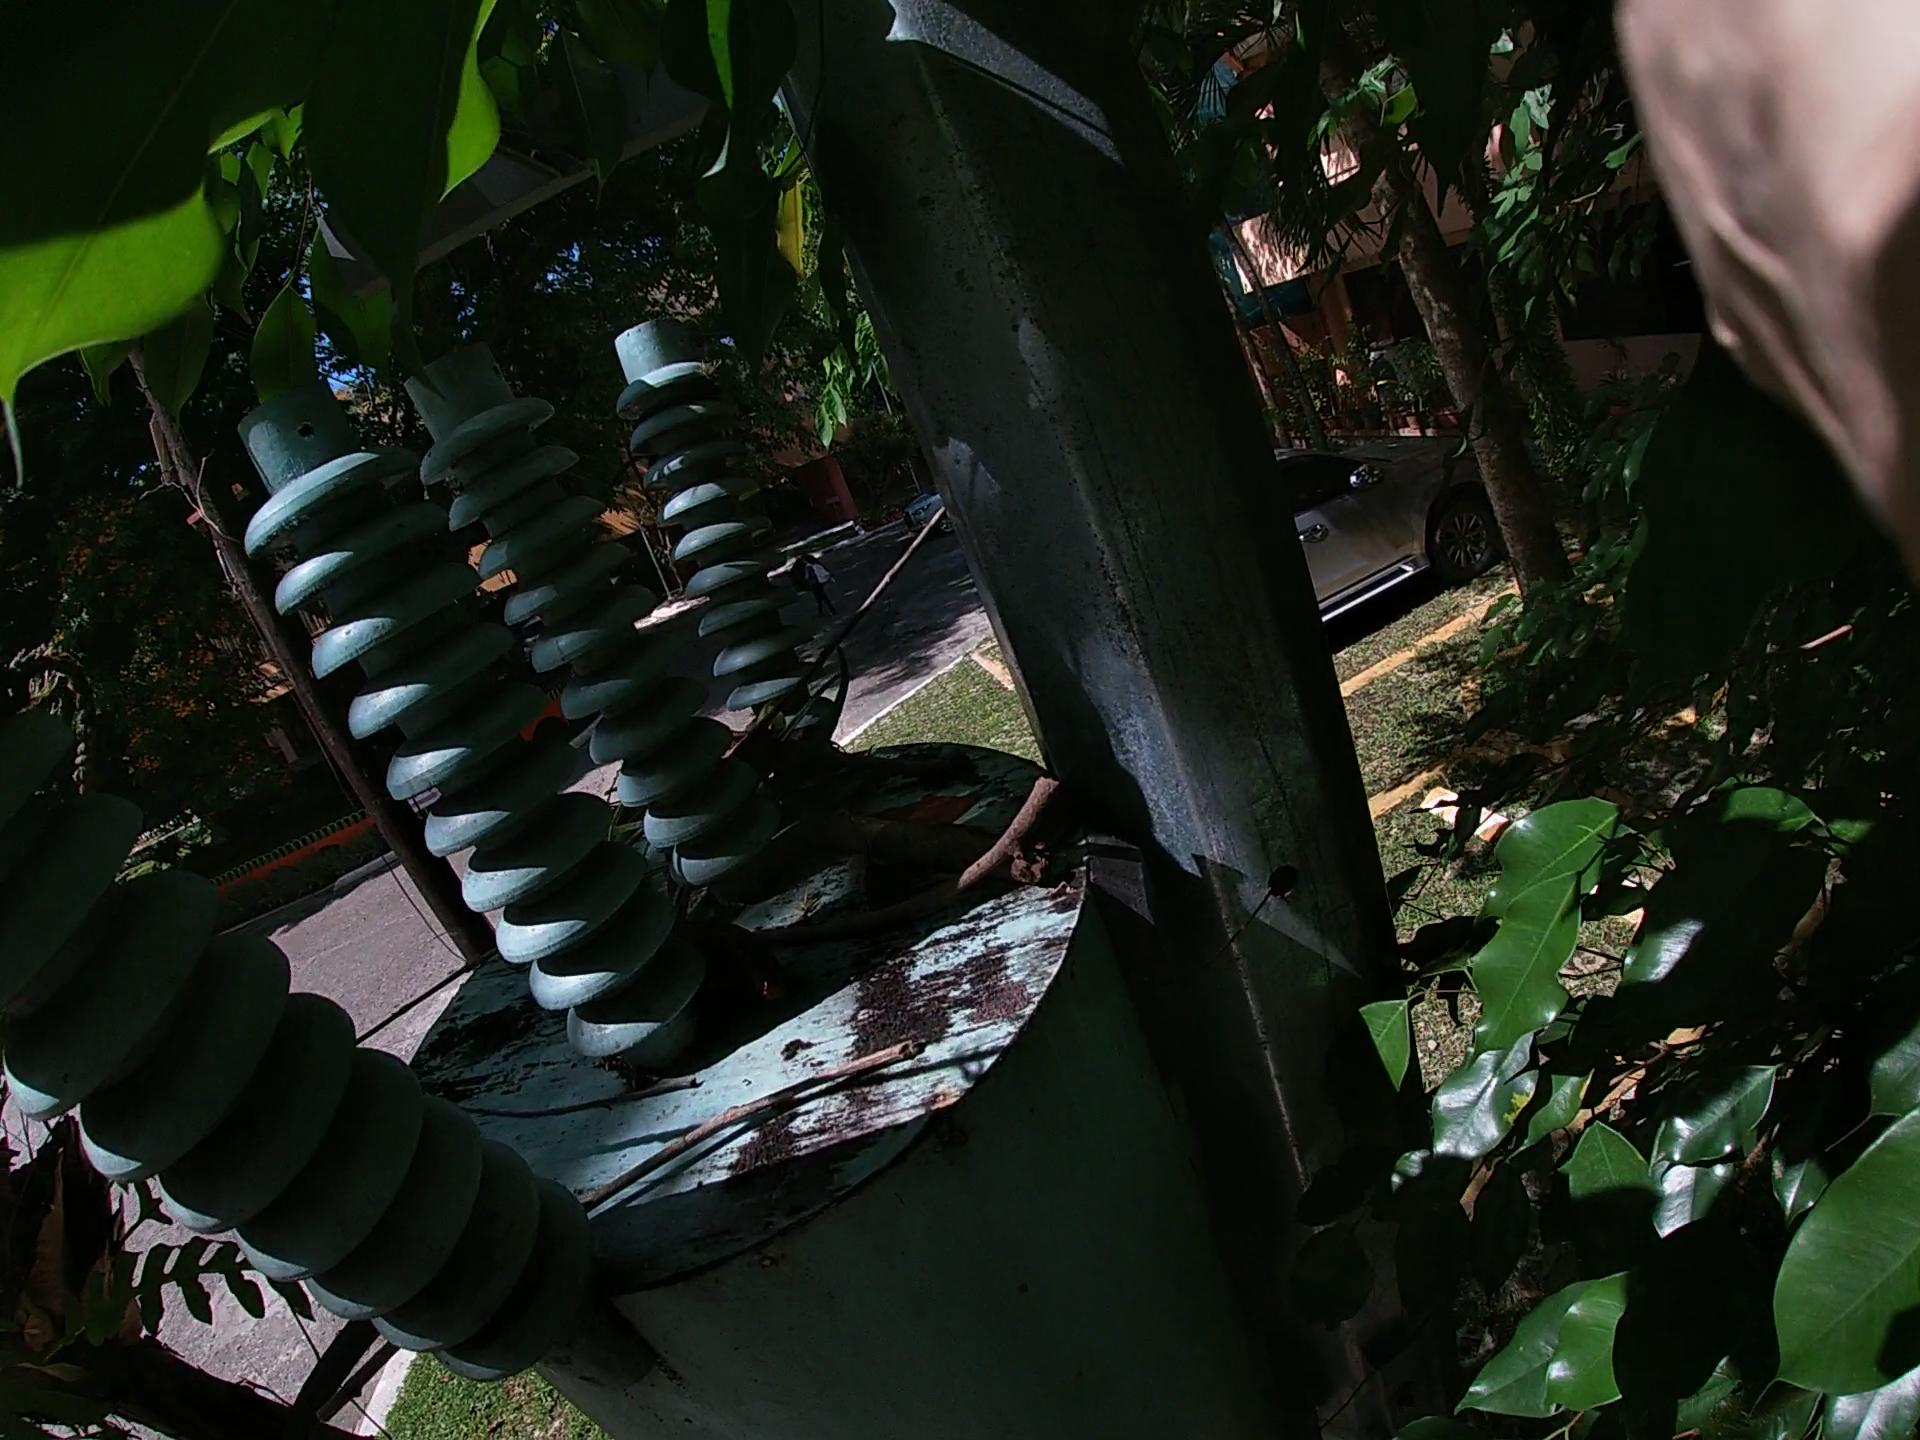branch with leaves: (685, 511, 924, 805)
mahogany fruit: (627, 874, 822, 1038)
tree branch: (280, 395, 1199, 1115), (283, 977, 869, 1370), (674, 830, 1008, 951), (841, 765, 1020, 852)
